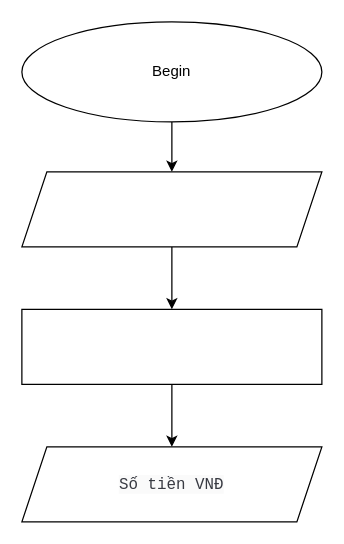
This 344x544 diagram has some shape labels left out. Each missing label, with the centre of its shape:
(Số tiền USD)* 23000 VNĐ: point (171, 346)
Số tiền USD: point (171, 209)
